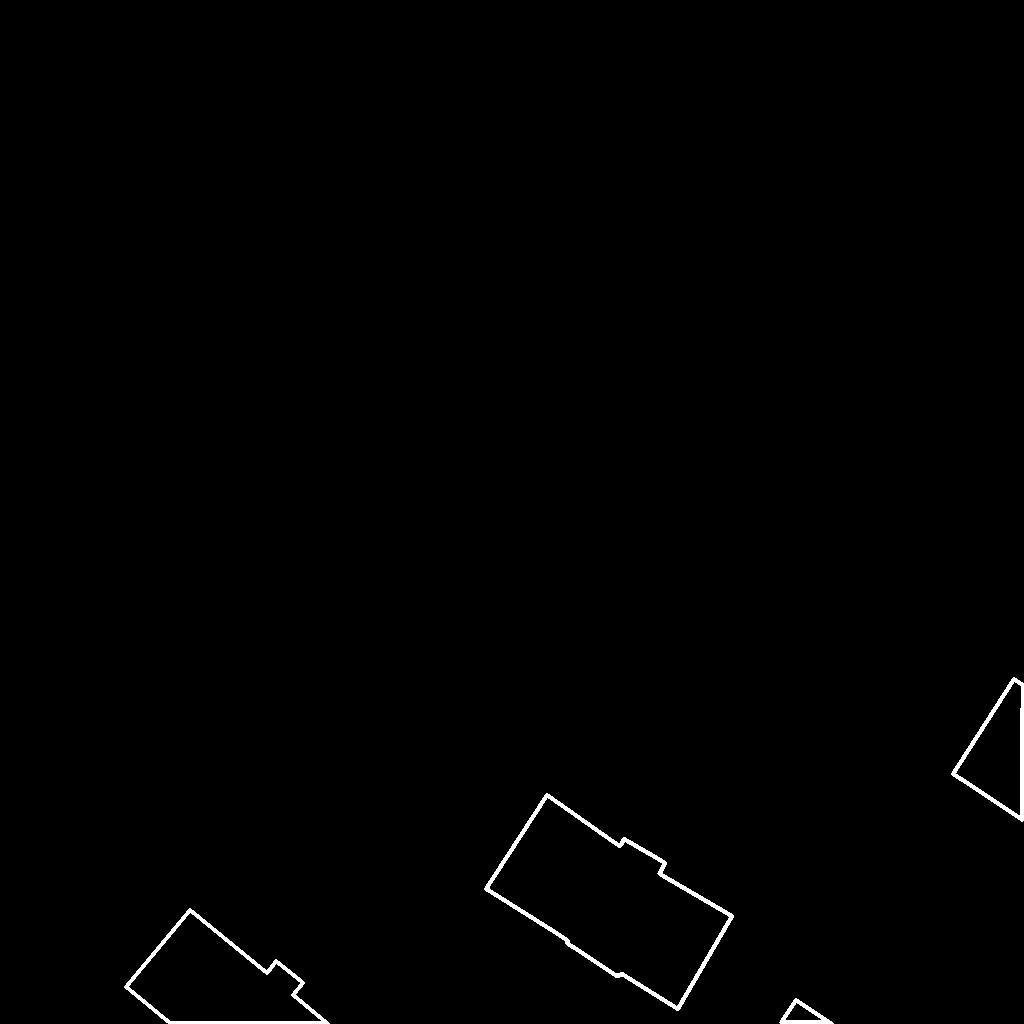building: (486, 795, 733, 1010), (126, 910, 329, 1024), (953, 679, 1024, 821), (781, 1000, 833, 1024)
